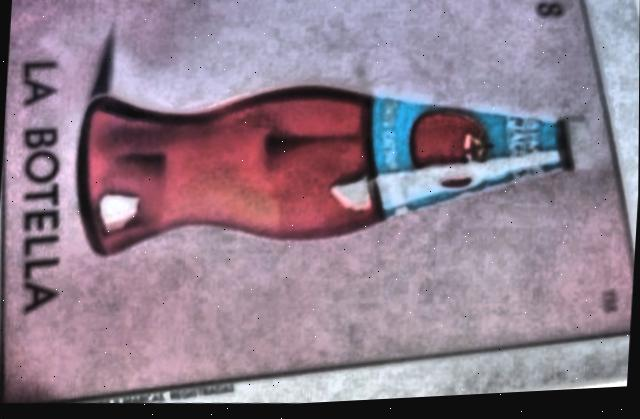La Botella: (0, 0, 633, 403)
